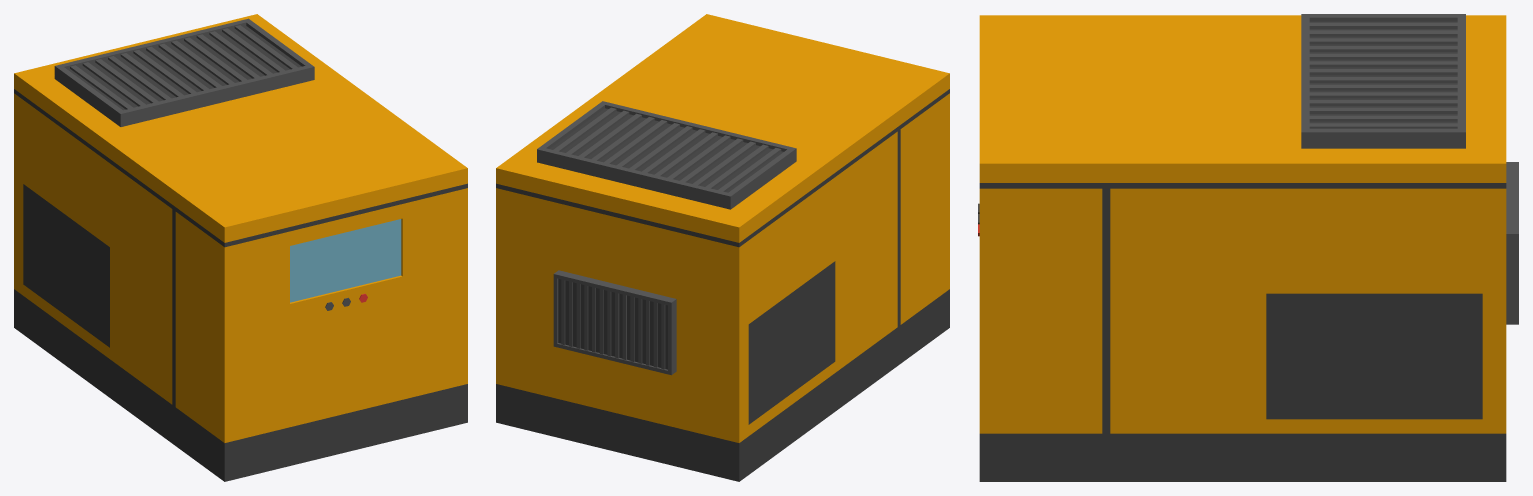
Rendered from SM_IndustrialProps_Generator_01.fbx.
The picture shows the model from 3 angles, left to right: view 1: azimuth 30°, elevation 25°; view 2: azimuth 150°, elevation 25°; view 3: azimuth 270°, elevation 25°; orthographic projection. The views are drawn at different scales.
Parts seen in each view (by area): view 1: SM_IndustrialProps_Generator_01; view 2: SM_IndustrialProps_Generator_01; view 3: SM_IndustrialProps_Generator_01.
Part boxes in pixels (x1=…): SM_IndustrialProps_Generator_01: x1=14, y1=14, x2=467, y2=481; SM_IndustrialProps_Generator_01: x1=496, y1=14, x2=949, y2=481; SM_IndustrialProps_Generator_01: x1=978, y1=14, x2=1518, y2=481.
Size of the model in its own units: 1.27 by 1.33 by 1.95.
